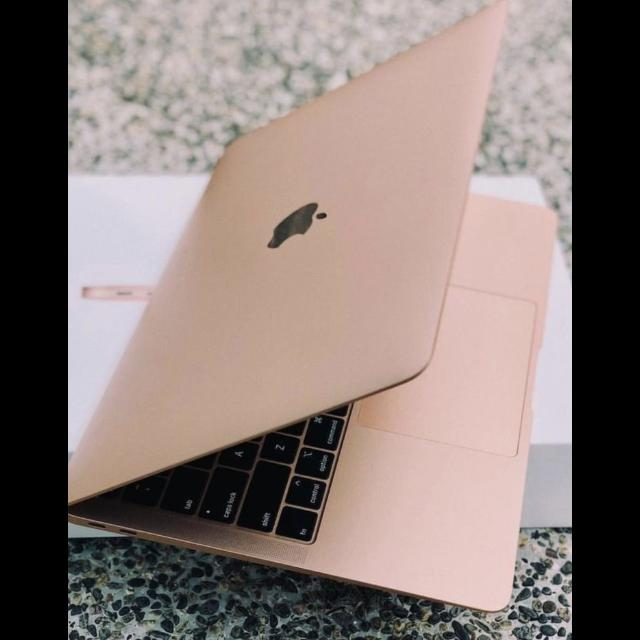laptop: (68, 5, 553, 610)
